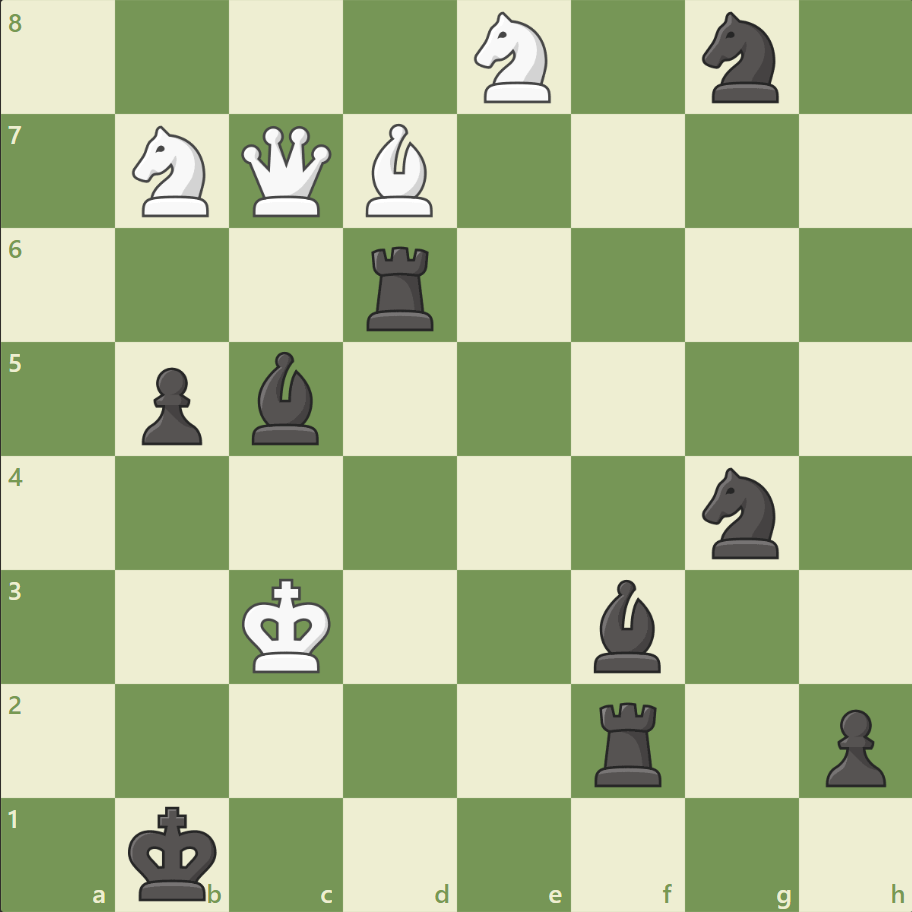B: (358, 120, 442, 222)
K: (238, 571, 338, 679)
N: (124, 121, 222, 223), (465, 7, 562, 110)
Q: (237, 122, 336, 222)
b: (244, 347, 328, 449), (585, 574, 669, 676)
k: (124, 798, 224, 906)
n: (692, 7, 789, 110), (692, 461, 789, 564)
p: (133, 359, 208, 450), (815, 700, 889, 791)
r: (587, 693, 670, 790), (360, 239, 442, 336)
